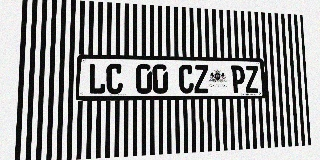0: (136, 64, 152, 94), (152, 64, 168, 94)
C: (106, 64, 123, 94), (179, 65, 194, 93)
L: (88, 63, 106, 94)
P: (231, 65, 245, 93)
Z: (194, 65, 209, 93), (245, 66, 259, 93)
